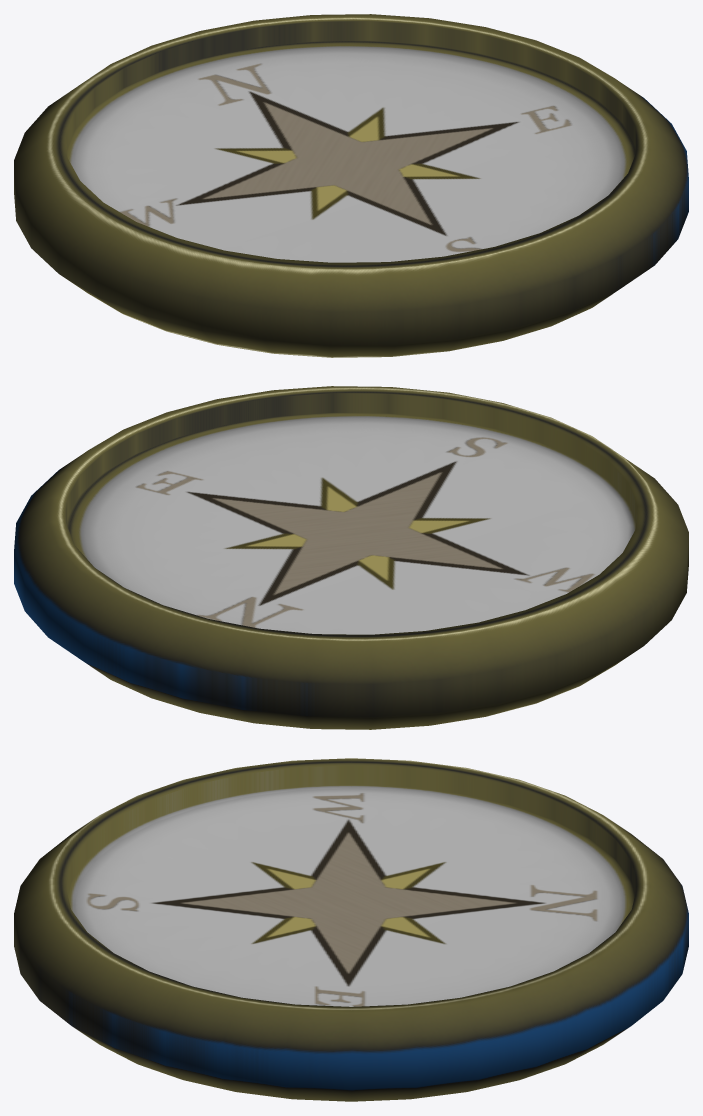
The model's file is compassCollada.dae.
The picture shows the model from 3 angles, top to bottom: view 1: azimuth 30°, elevation 25°; view 2: azimuth 150°, elevation 25°; view 3: azimuth 270°, elevation 25°; orthographic projection.
Visible parts, largest first — view 1: Cylinder; view 2: Cylinder; view 3: Cylinder.
Boxes of the visible parts, bbox=[...] form: Cylinder: bbox=[14, 14, 688, 357]; Cylinder: bbox=[14, 386, 688, 729]; Cylinder: bbox=[14, 758, 688, 1101].
Size of the model in its own units: 6.36 by 6.36 by 0.9108.
Materials: 1 (1 with a texture image).
